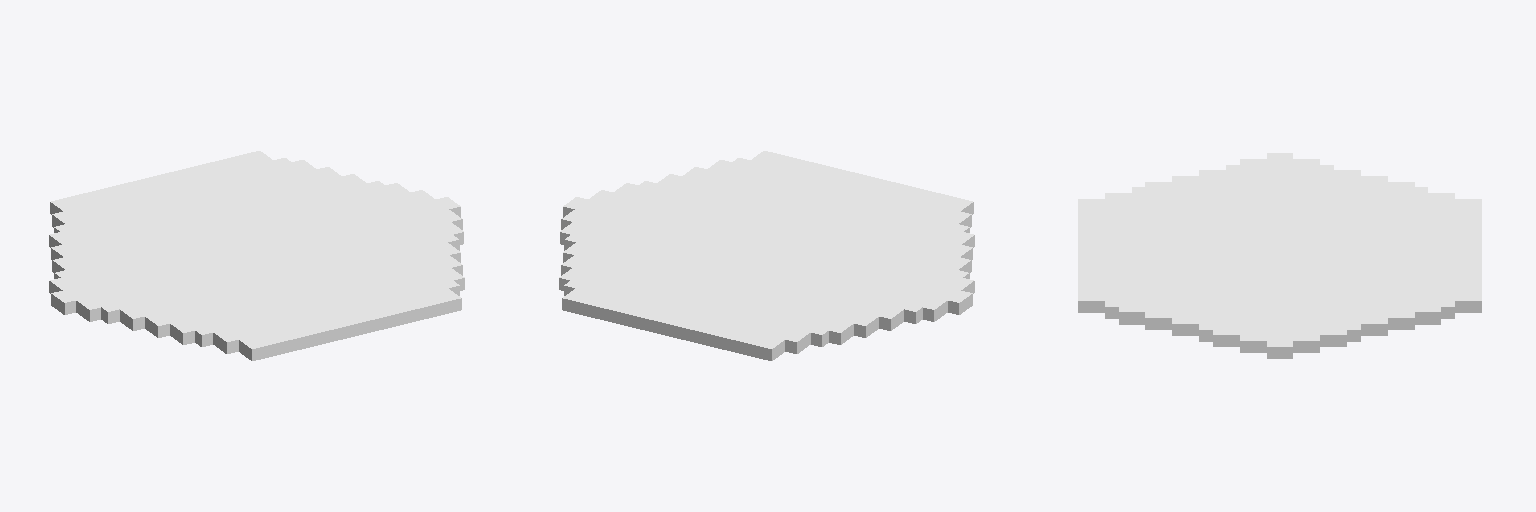
The model's file is Interior_Hexagono.obj.
3 views of the same model, side by side, from view 1: azimuth 30°, elevation 25°; view 2: azimuth 150°, elevation 25°; view 3: azimuth 270°, elevation 25° (orthographic).
Parts seen in each view (by area): view 1: object 1; view 2: object 1; view 3: object 1.
Boxes of the visible parts, <box> form: object 1: <box>49,151,464,360</box>; object 1: <box>559,151,974,360</box>; object 1: <box>1078,153,1481,358</box>.
Size of the model in its own units: 3.4 by 0.1 by 3.